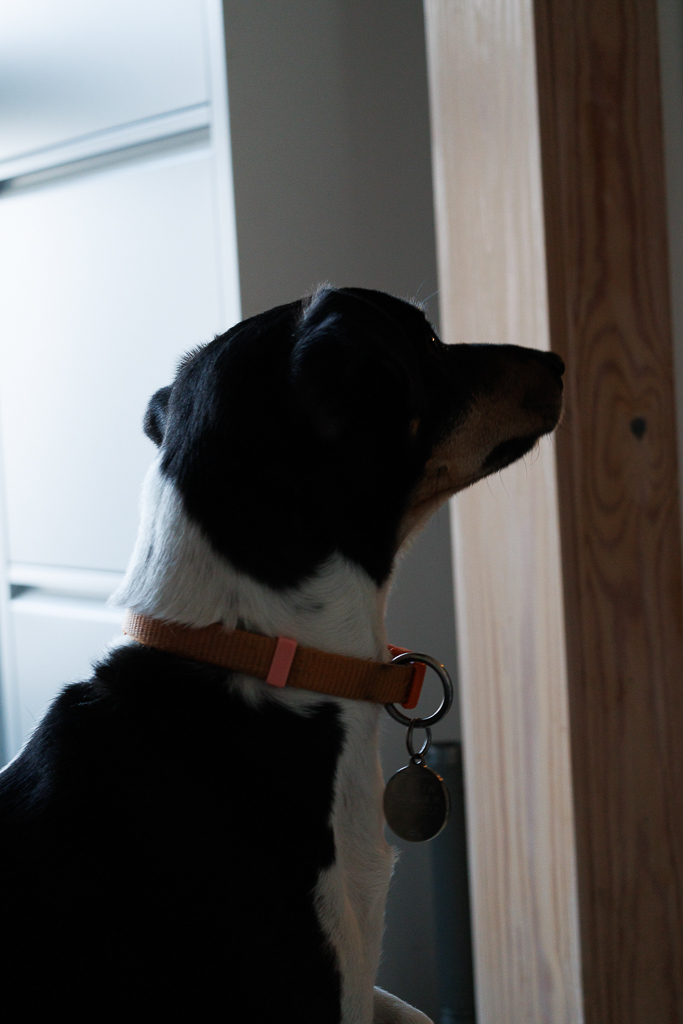Dog: (0, 273, 581, 1023)
